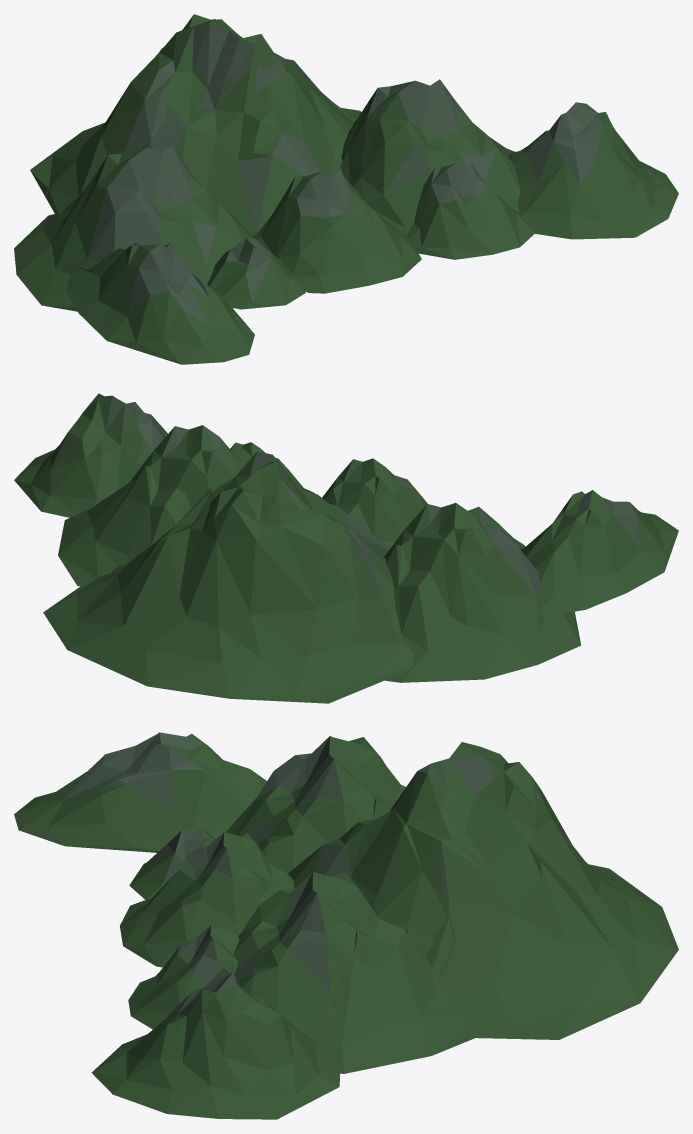
Rendered from mountainrange.fbx.
The picture shows the model from 3 angles, top to bottom: view 1: azimuth 30°, elevation 25°; view 2: azimuth 150°, elevation 25°; view 3: azimuth 270°, elevation 25°; orthographic projection. The views are drawn at different scales.
Visible parts, largest first — view 1: Landscape.005; view 2: Landscape.005; view 3: Landscape.005.
Part boxes in pixels (<box>): Landscape.005: <box>14,14,678,364</box>; Landscape.005: <box>14,393,678,703</box>; Landscape.005: <box>14,732,678,1119</box>.
Bounding box in the file's own units: 111959 × 31777 × 94959.
